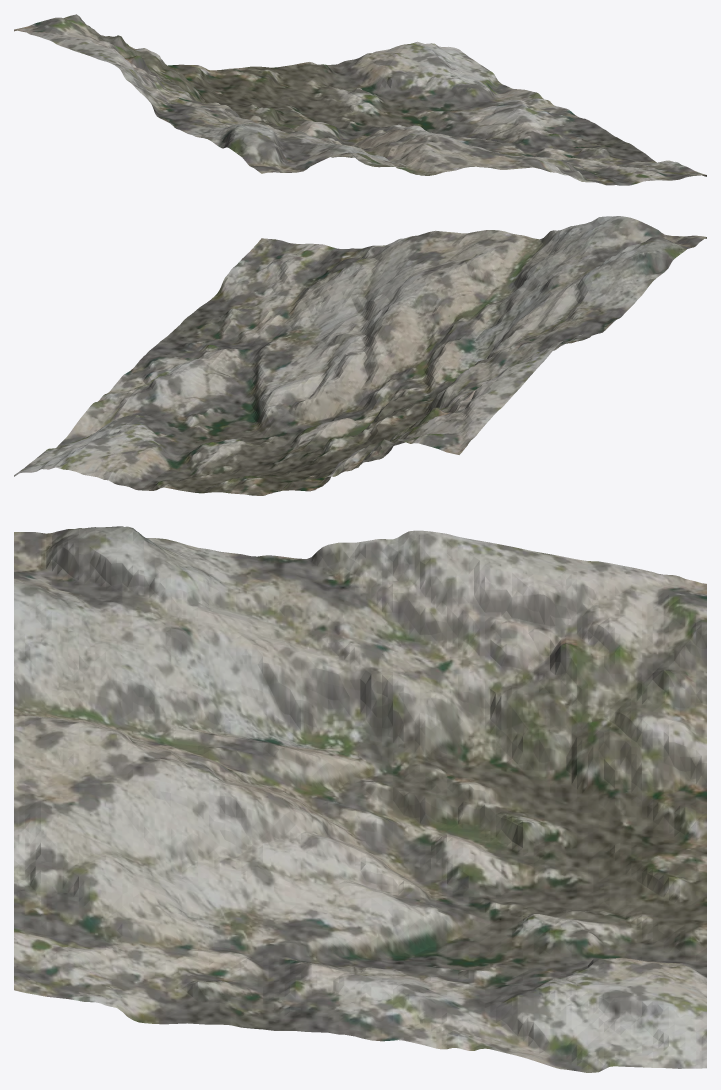
3 renders of one model, top to bottom at view 1: azimuth 30°, elevation 25°; view 2: azimuth 150°, elevation 25°; view 3: azimuth 270°, elevation 25°, orthographic. The views are drawn at different scales.
Bounding box in the file's own units: 250 × 97.73 × 241.
1 material, 1 textured.
